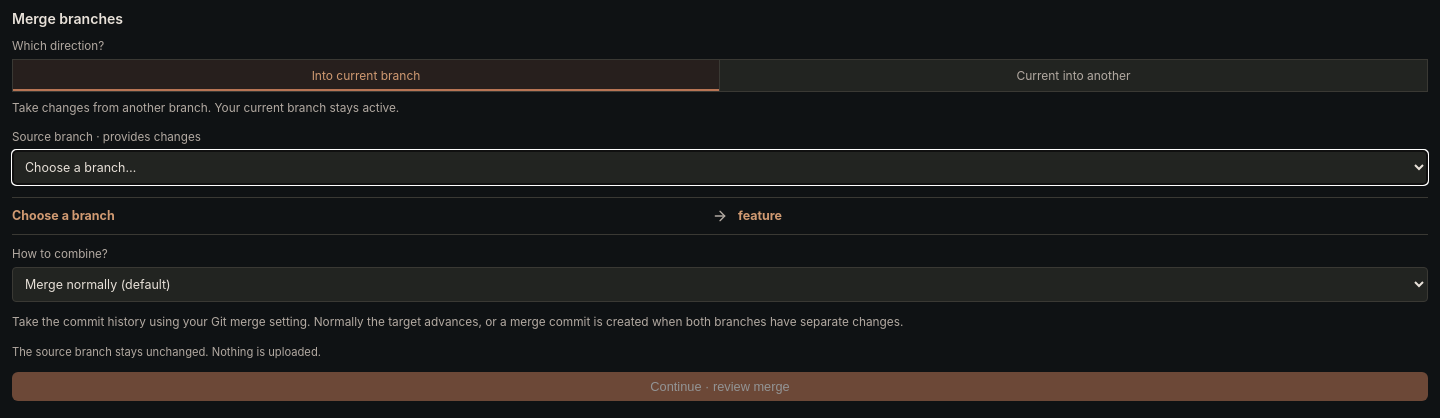
guided topbar merge menu › preserves selections on background refresh and disables a removed target
This screenshot has width=1440, height=418.
Click the button "Current into another". click: click(1074, 76)
box: [720, 59, 1428, 92]
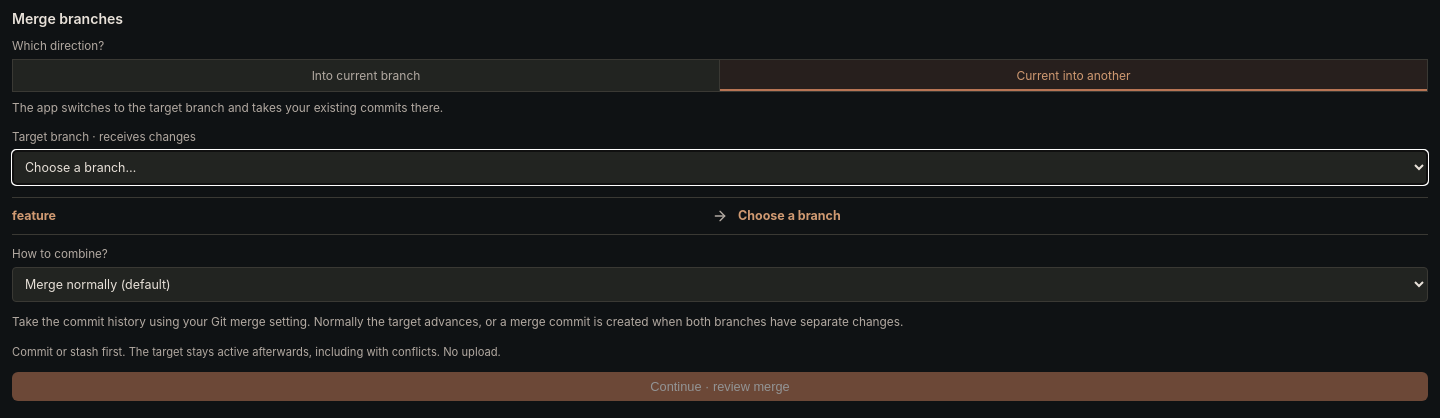
Select "main" in the dropdown labelled "Target branch · receives changes". click: (720, 167)
box: [12, 150, 1428, 185]
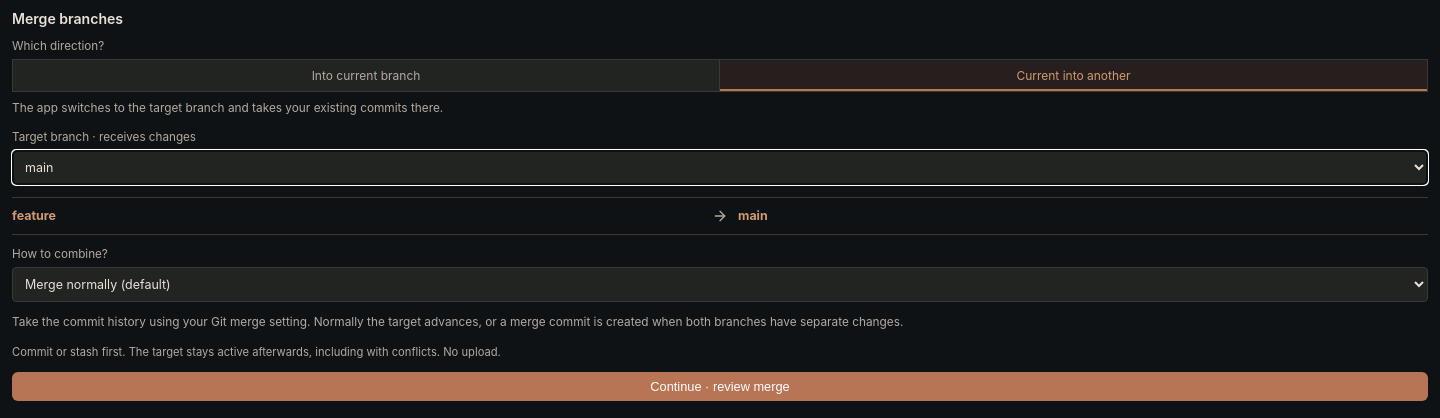
Select "Combine for one commit (squash)" in the dropdown labelled "How to combine?". click: (720, 284)
box: [12, 267, 1428, 302]
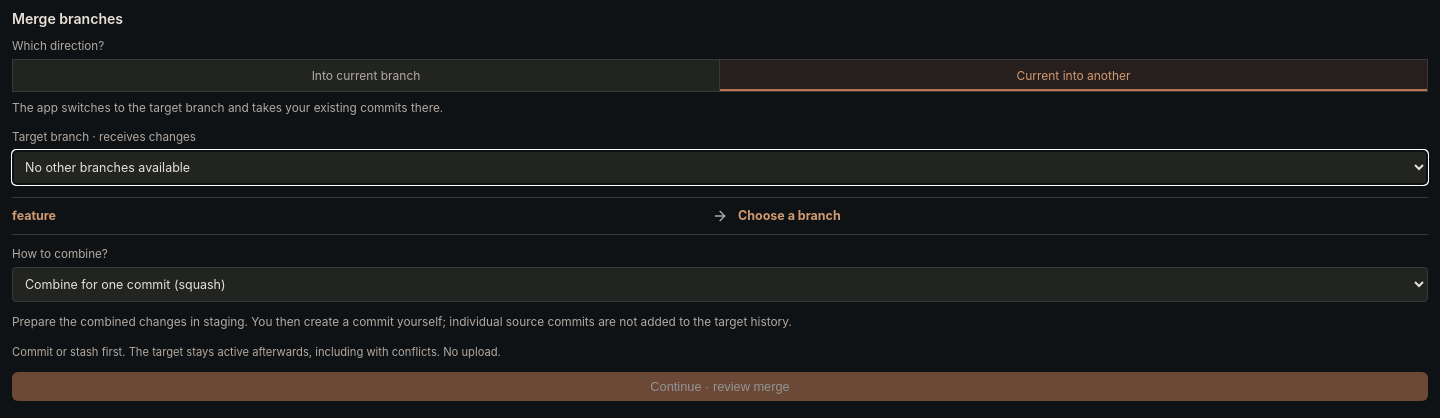
Expected: the button "Continue · review merge" is disabled, [12, 372, 1428, 401]
